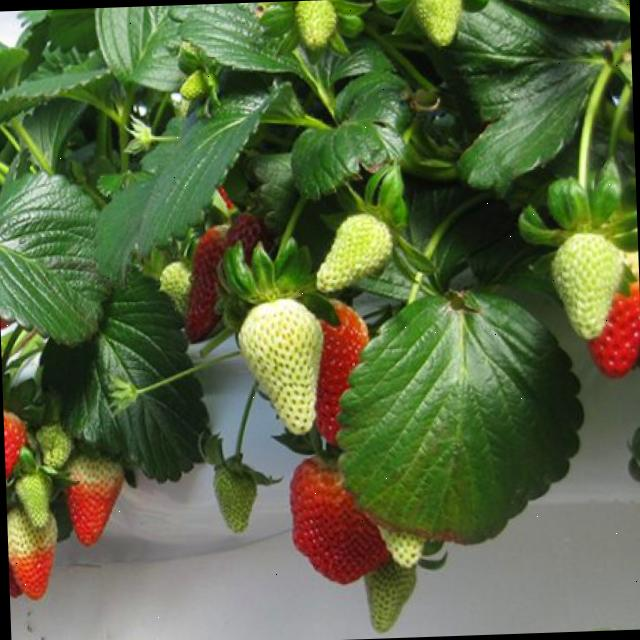Ripe Strawberry: (276, 444, 390, 594), (304, 290, 389, 440), (180, 215, 236, 369), (589, 242, 640, 381), (68, 464, 120, 552), (15, 554, 57, 614), (3, 406, 26, 476)
